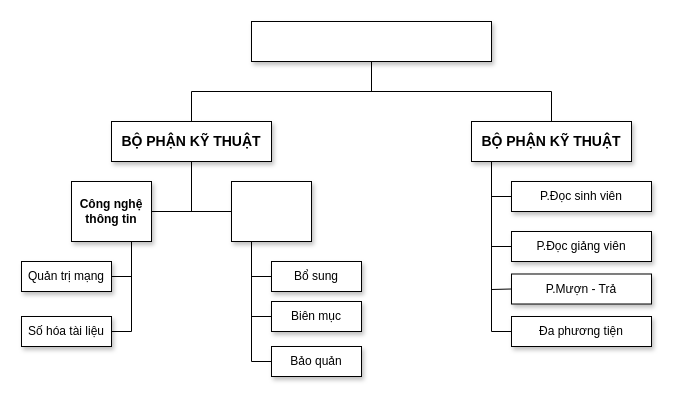
The diagram is 675 pixels wide and 401 high, and some of its shapes have lost their labels. The shapes that lost their labels are listed below. From the top down, each one's centre as x and y in pixels, then its label:
At point (372, 42): "BAN GIÁM ĐỐCTHƯ VIỆN".
At point (272, 212): "Tài nguyên thông tin".
